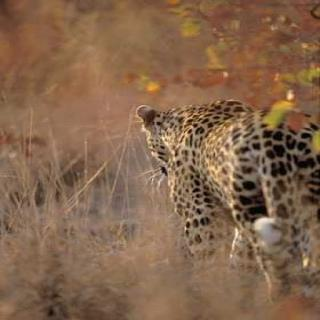Leopard: (130, 64, 320, 266)
